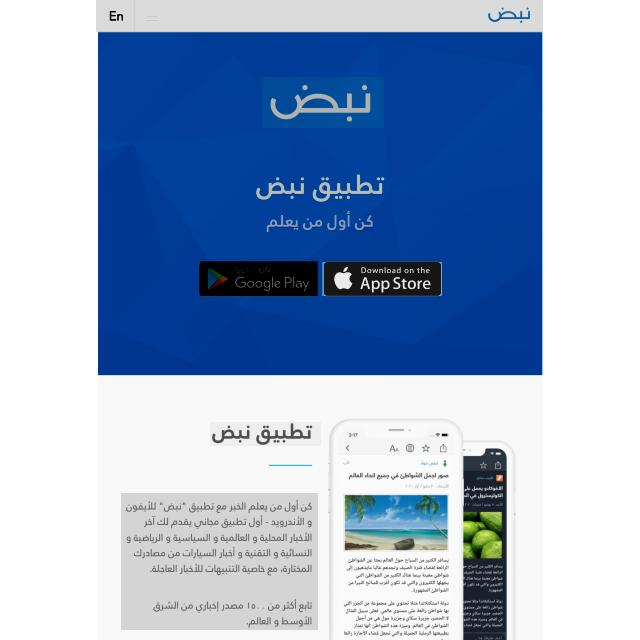CheckBox: (200, 261, 318, 296), (322, 262, 442, 296)
Input field: (121, 493, 318, 630)
bag: (96, 0, 543, 32)
breadcrumbs: (210, 422, 321, 447)
card: (98, 32, 542, 375)
date picker: (483, 2, 535, 27)
decoration: (142, 8, 163, 27)
image: (262, 77, 384, 128)
